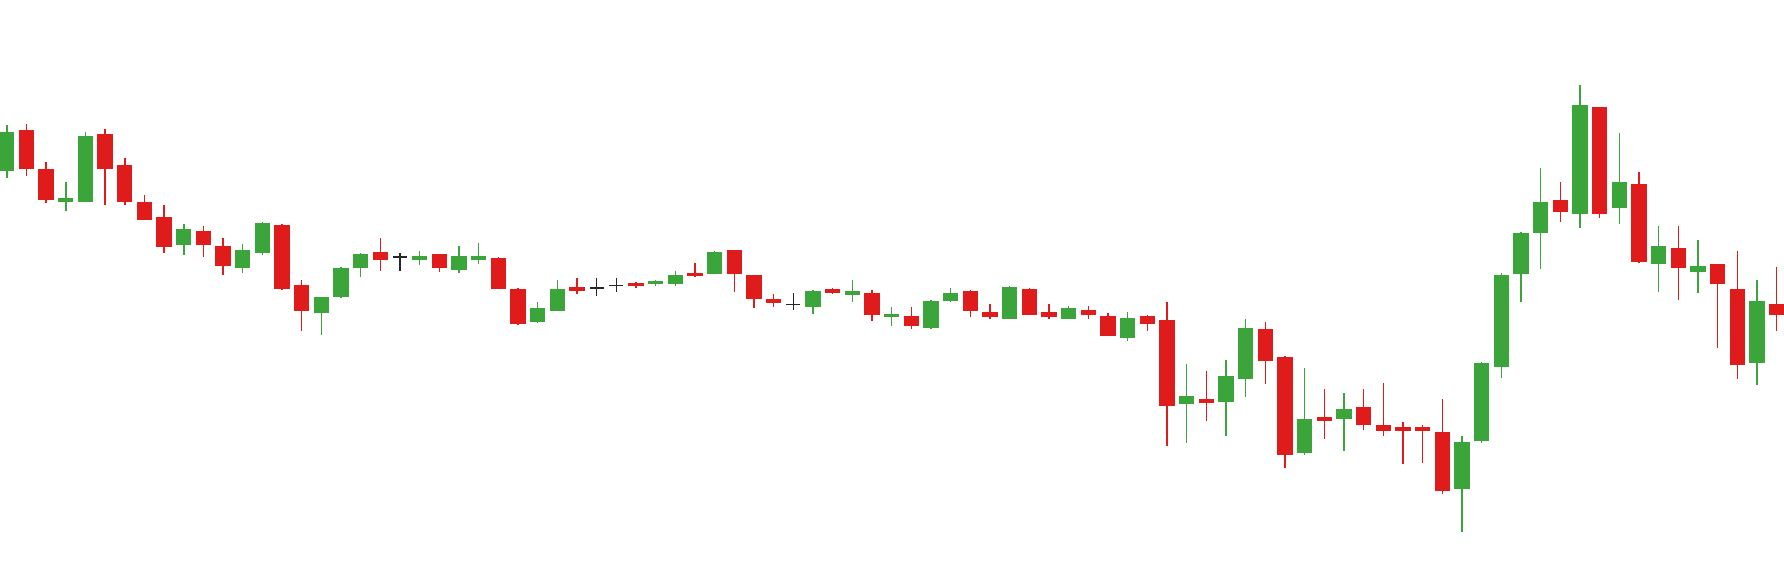buy: (1277, 403, 1471, 538)
